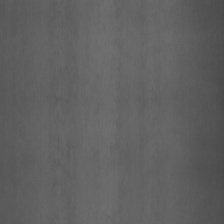silk_spot: (46, 62, 75, 187)
